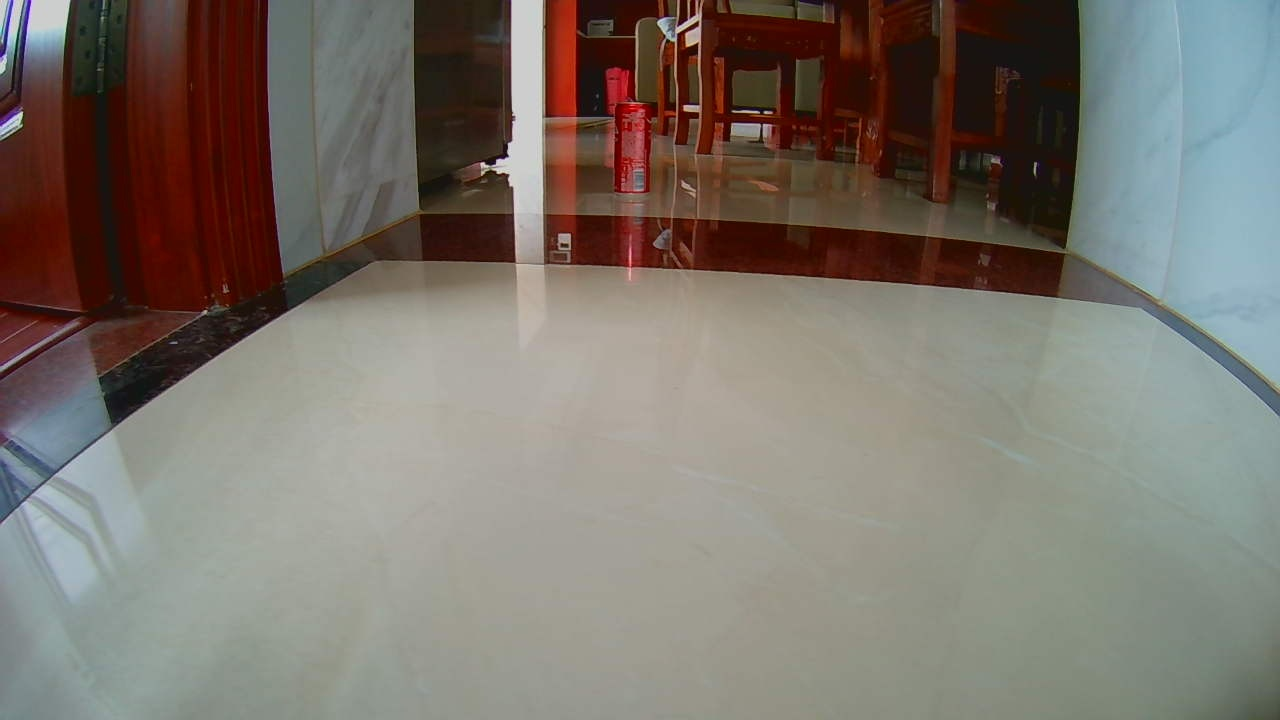cola: (613, 94, 649, 201)
